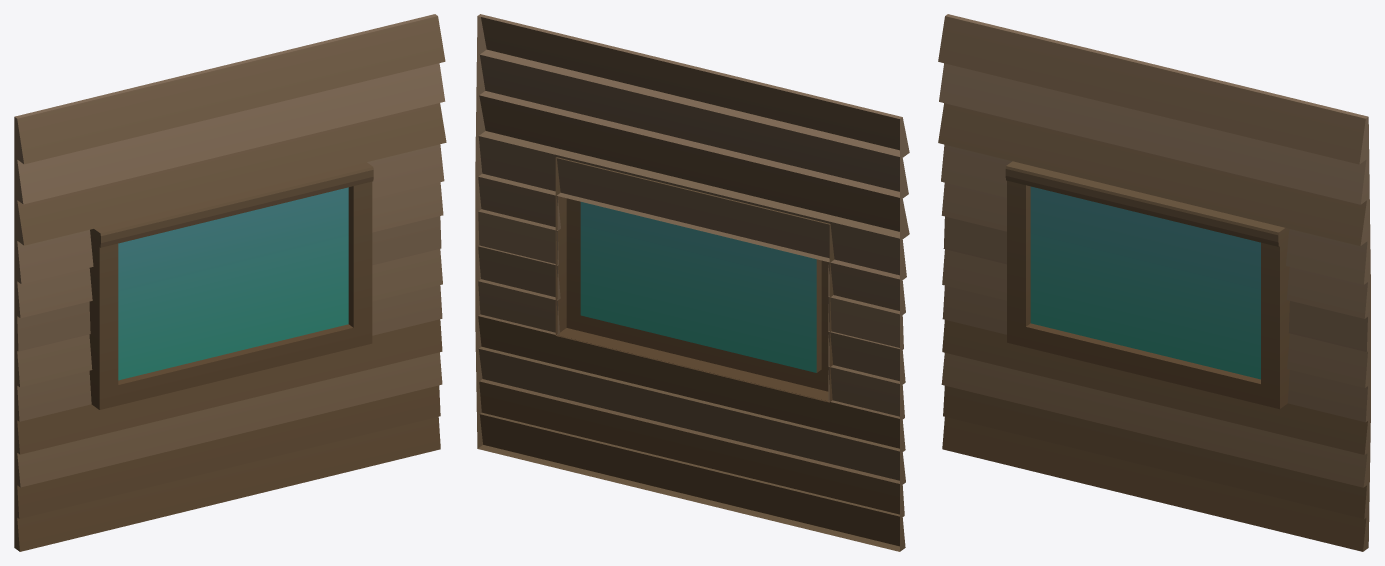
File: Wall_06.fbx
3 views of the same model, side by side, from view 1: azimuth 30°, elevation 25°; view 2: azimuth 150°, elevation 25°; view 3: azimuth 330°, elevation 25° (orthographic).
Visible parts, largest first — view 1: Plane.038; view 2: Plane.038; view 3: Plane.038.
Part boxes in pixels (left/top/right/bottom): Plane.038: left=14, top=14, right=446, bottom=551; Plane.038: left=475, top=14, right=909, bottom=551; Plane.038: left=938, top=14, right=1370, bottom=551.
Bounding box in the file's own units: 321 × 313 × 18.93.
